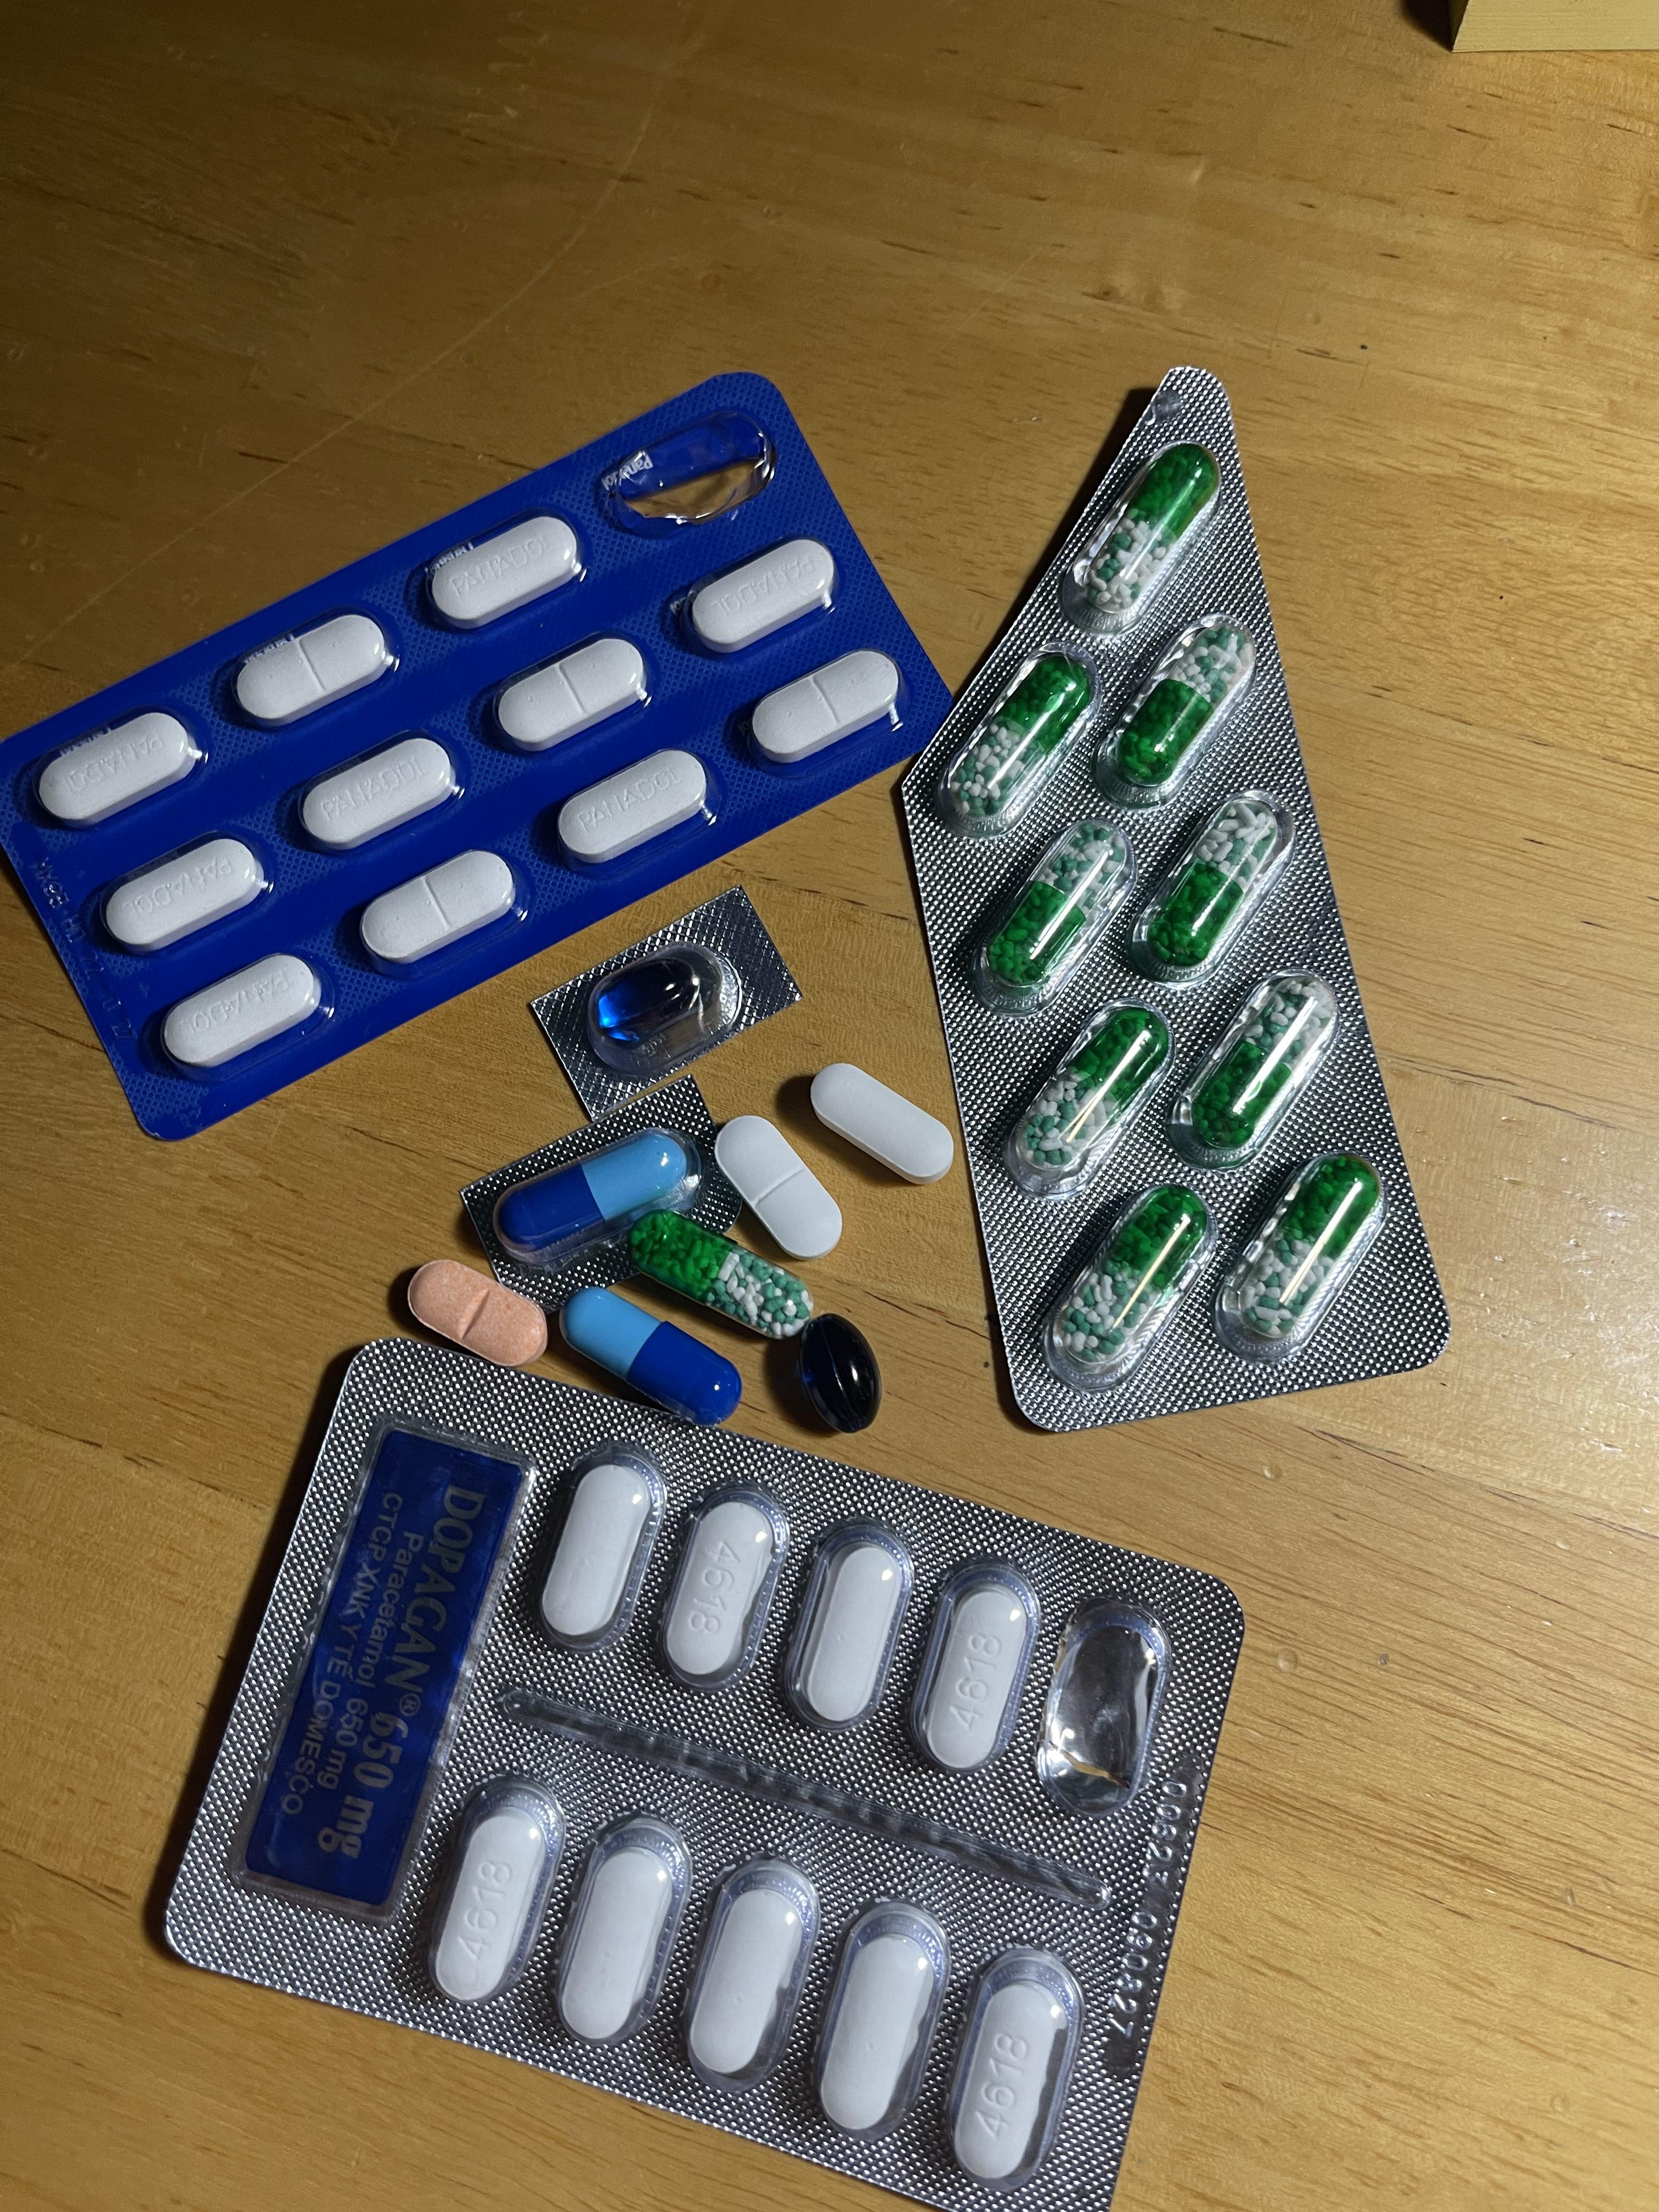Lincomyxin_500mg: (594, 956, 711, 1049), (796, 1315, 885, 1435)
Loratadine_10mg: (408, 1258, 554, 1367)
Paracetamol_350mg: (98, 834, 265, 953), (162, 953, 328, 1071), (681, 536, 843, 657), (38, 711, 202, 829), (709, 1111, 842, 1256), (298, 733, 458, 852), (749, 646, 904, 766), (361, 852, 518, 968), (427, 514, 580, 632), (556, 751, 711, 867), (493, 636, 648, 752), (239, 613, 392, 728)
Paracetamol_500mg: (819, 1926, 939, 2135), (688, 1879, 807, 2085), (563, 1846, 676, 2041), (957, 1984, 1066, 2179), (436, 1813, 545, 2003), (798, 1536, 908, 1726), (542, 1465, 657, 1637), (667, 1505, 777, 1681), (924, 1590, 1030, 1771), (809, 1064, 955, 1188)
Paracetamol_650mg: (1115, 618, 1253, 805), (1234, 1160, 1377, 1339), (627, 1211, 819, 1341), (1065, 1190, 1204, 1367), (958, 655, 1093, 834), (1190, 981, 1330, 1148), (1082, 448, 1213, 624), (1018, 1010, 1164, 1167), (992, 829, 1126, 988), (1148, 812, 1276, 970)
pill: (491, 1129, 702, 1266), (559, 1285, 739, 1421)
